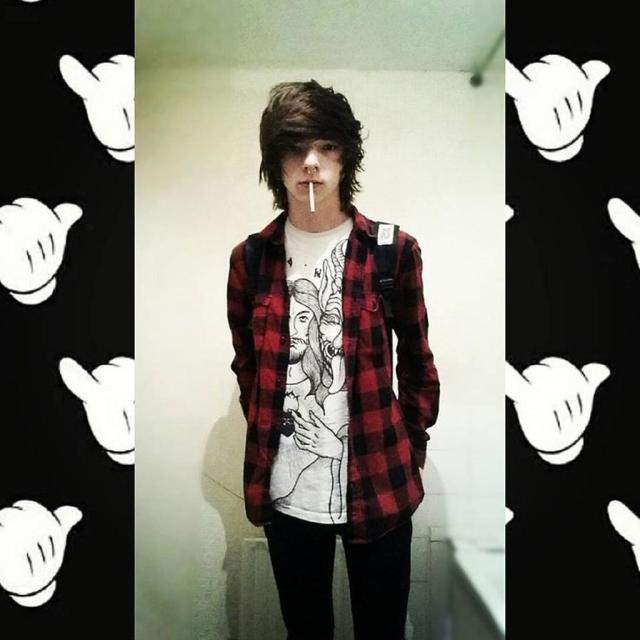smoking: (262, 80, 356, 228)
